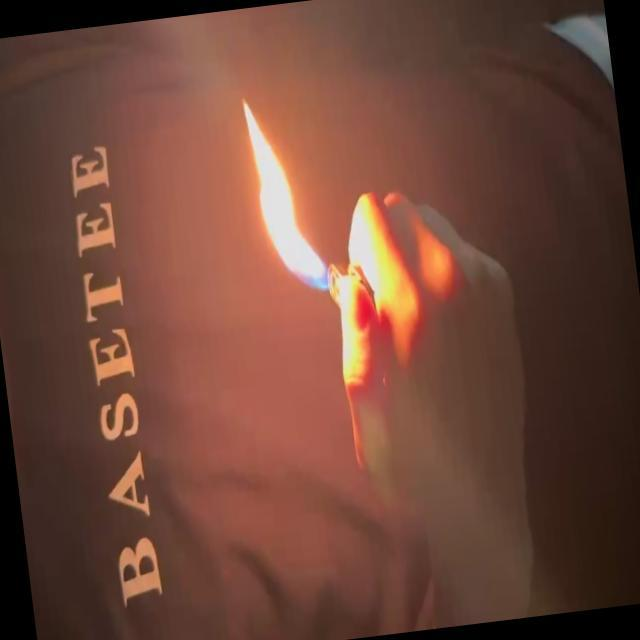Fire: (240, 85, 335, 301)
